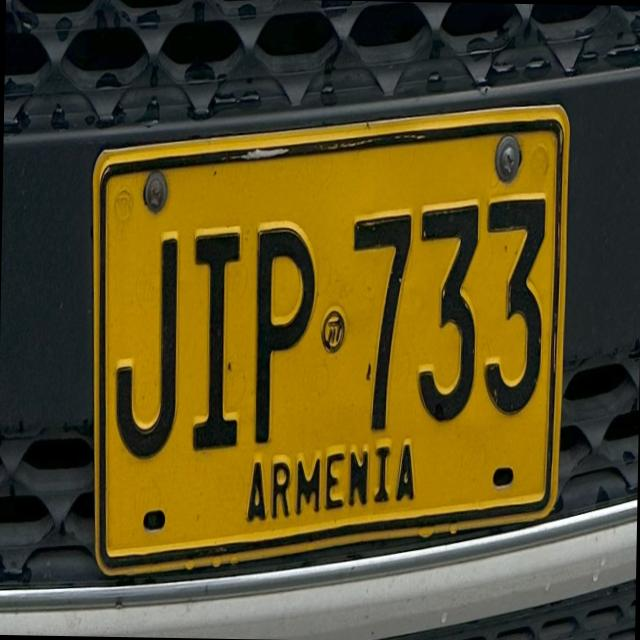number plate: (93, 106, 567, 572)
